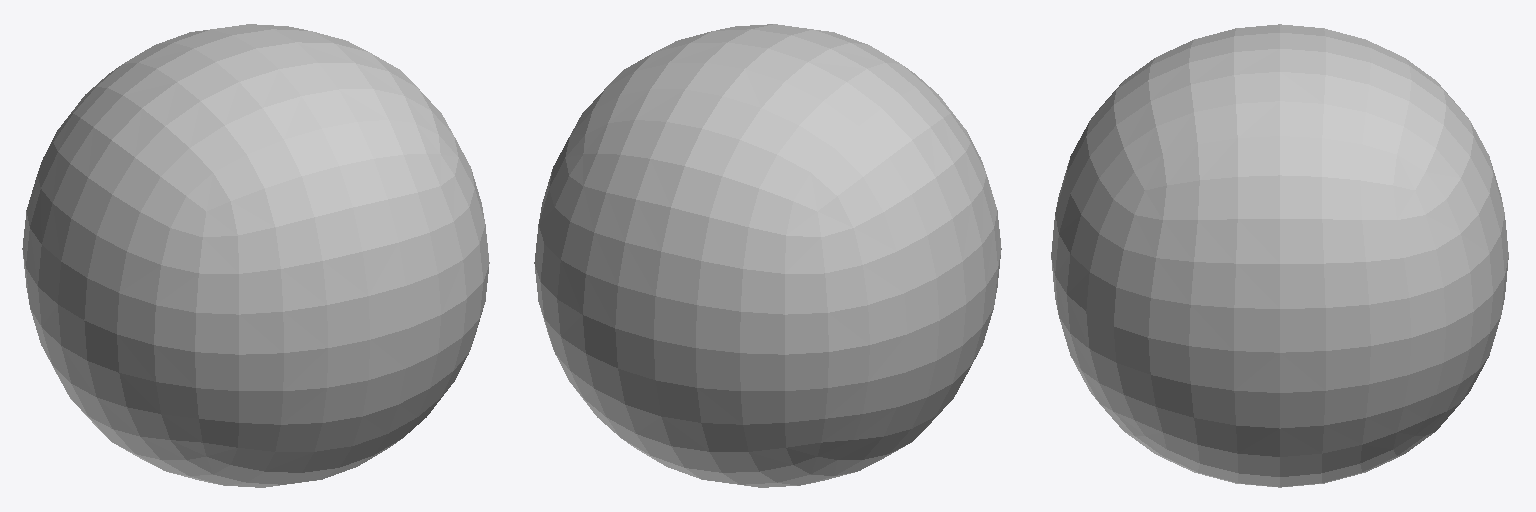
The model's file is cube_subdiv_3.obj.
3 renders of one model, left to right at view 1: azimuth 30°, elevation 25°; view 2: azimuth 150°, elevation 25°; view 3: azimuth 270°, elevation 25°, orthographic.
Visible parts, largest first — view 1: Cube_Cube.008; view 2: Cube_Cube.008; view 3: Cube_Cube.008.
Boxes of the visible parts, x1,y1,x2,y2 form: Cube_Cube.008: [22, 24, 489, 487]; Cube_Cube.008: [534, 24, 1001, 487]; Cube_Cube.008: [1051, 24, 1508, 487].
Bounding box in the file's own units: 1.7 × 1.7 × 1.7.